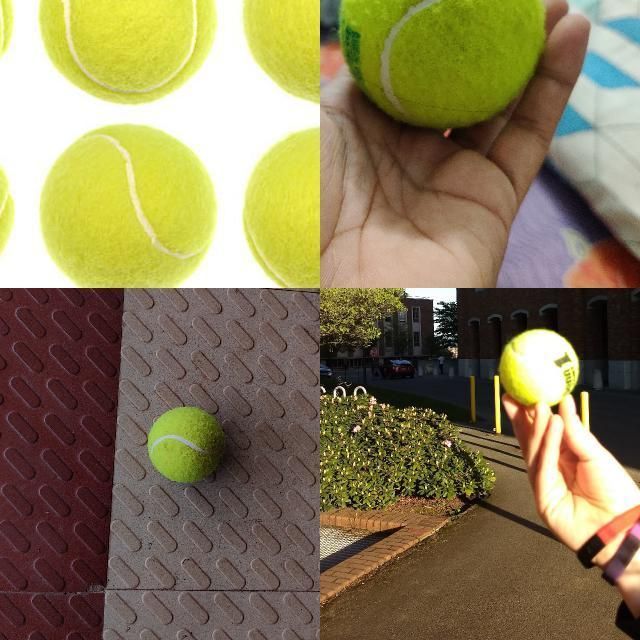tennis-ball: (38, 122, 216, 287), (337, 0, 548, 129), (38, 0, 218, 106), (240, 125, 319, 287), (241, 0, 319, 105), (498, 327, 581, 405), (148, 406, 225, 482)
